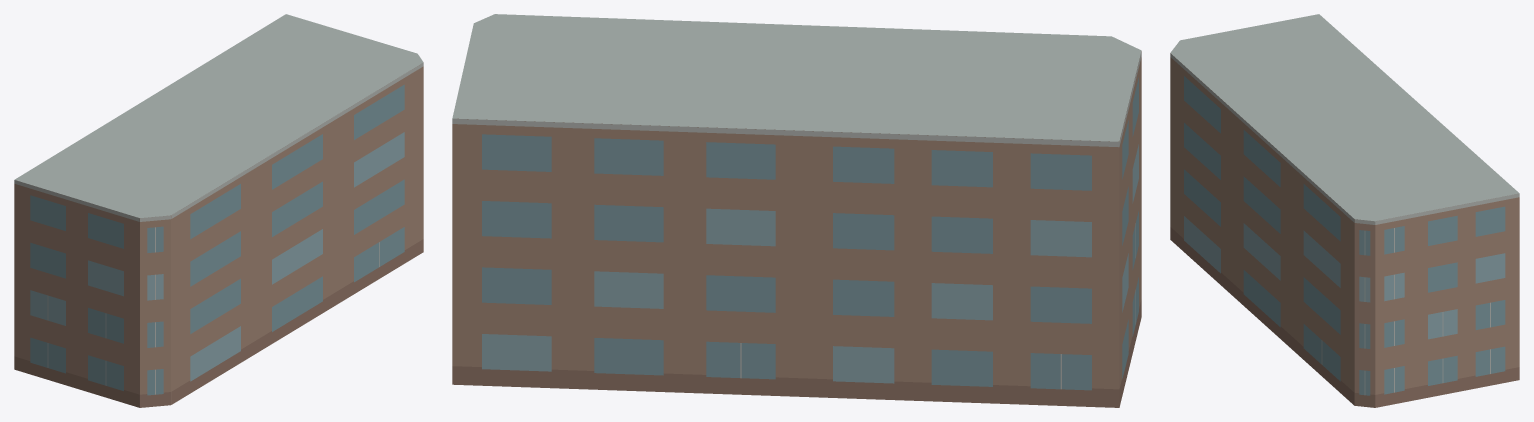
Rendered from survey-upis-32904961.glb.
3 views of the same model, side by side, from view 1: azimuth 30°, elevation 25°; view 2: azimuth 150°, elevation 25°; view 3: azimuth 270°, elevation 25° (orthographic). The views are drawn at different scales.
Visible parts, largest first — view 1: survey-upis-32904961.tmp; view 2: survey-upis-32904961.tmp; view 3: survey-upis-32904961.tmp.
Part boxes in pixels (bbox=[...]): survey-upis-32904961.tmp: bbox=[14, 14, 423, 407]; survey-upis-32904961.tmp: bbox=[452, 14, 1141, 407]; survey-upis-32904961.tmp: bbox=[1170, 14, 1519, 407].
Size of the model in its own units: 28.59 by 12 by 20.37.
